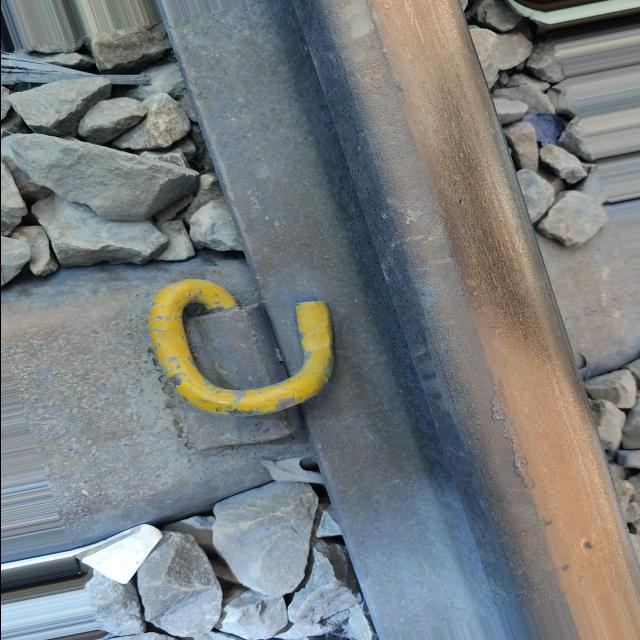broken_rail_medium: (486, 389, 535, 493), (359, 1, 404, 98), (538, 519, 596, 573)
